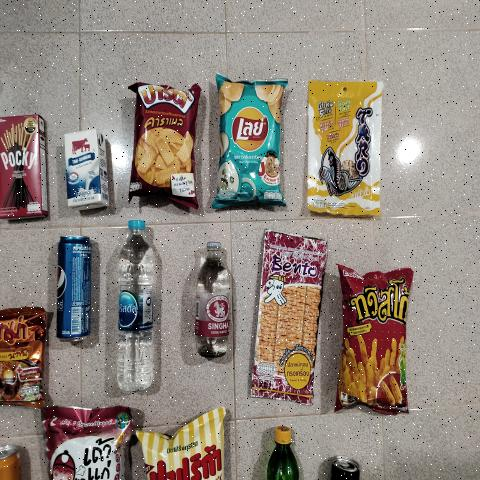bento_red: (252, 236, 327, 396)
crystal: (116, 218, 154, 395)
lay_blue: (217, 81, 282, 203)
mama: (0, 315, 44, 407)
party_red: (128, 80, 197, 200)
pepsi_blue: (55, 234, 88, 338)
pokki: (0, 118, 48, 216)
singha_soda: (192, 239, 236, 357)
taro_yellow: (308, 82, 379, 214)
thai_denmark: (69, 130, 105, 213)
twisco: (343, 274, 404, 407)
